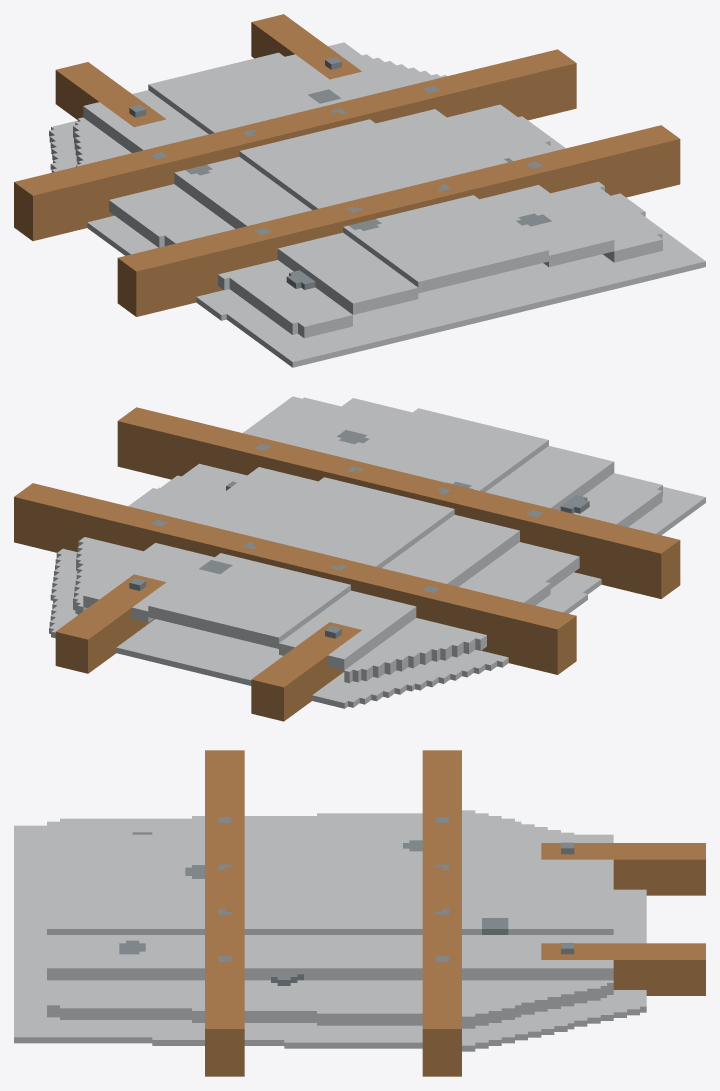
The model's file is chestguard_metal_sheets.glb.
3 renders of one model, top to bottom at view 1: azimuth 30°, elevation 25°; view 2: azimuth 150°, elevation 25°; view 3: azimuth 270°, elevation 25°, orthographic. The views are drawn at different scales.
Visible parts, largest first — view 1: chestguard_metal_sheets:compound; view 2: chestguard_metal_sheets:compound; view 3: chestguard_metal_sheets:compound.
Part boxes in pixels (x1,y1,x2,y2): chestguard_metal_sheets:compound: (14, 14, 705, 367); chestguard_metal_sheets:compound: (14, 396, 705, 721); chestguard_metal_sheets:compound: (14, 750, 705, 1076).
Size of the model in its own units: 0.6 by 0.048 by 0.63.
